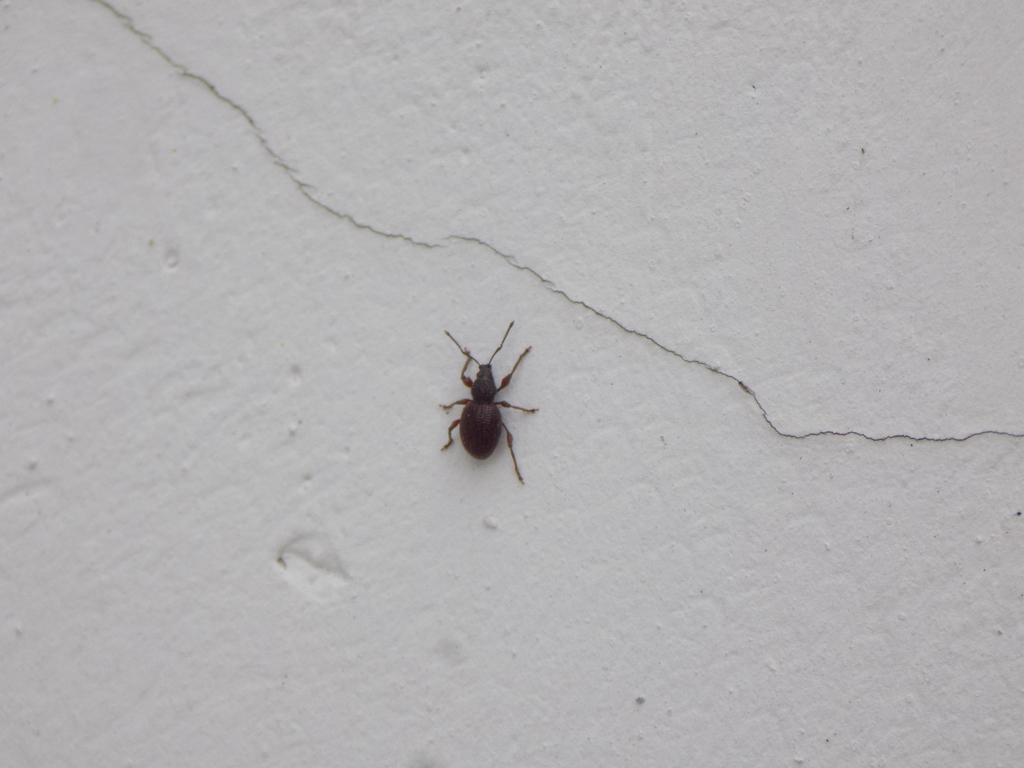weevils: (398, 290, 580, 499)
